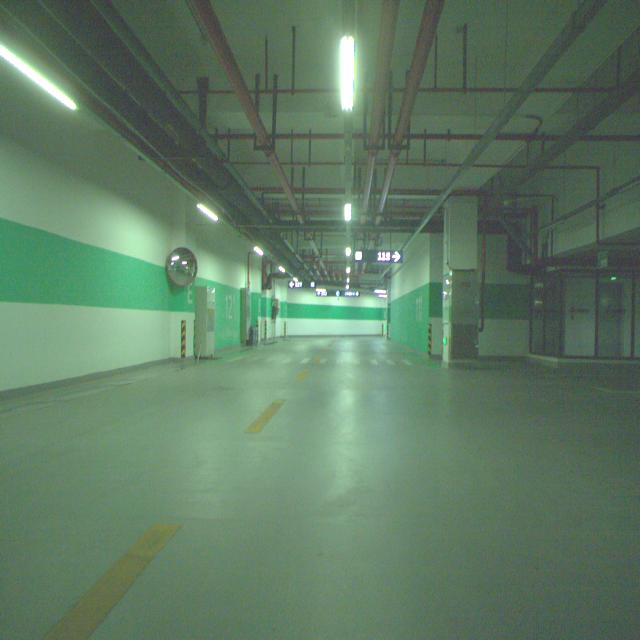pillar: (442, 197, 478, 364)
wall: (171, 213, 197, 358)
